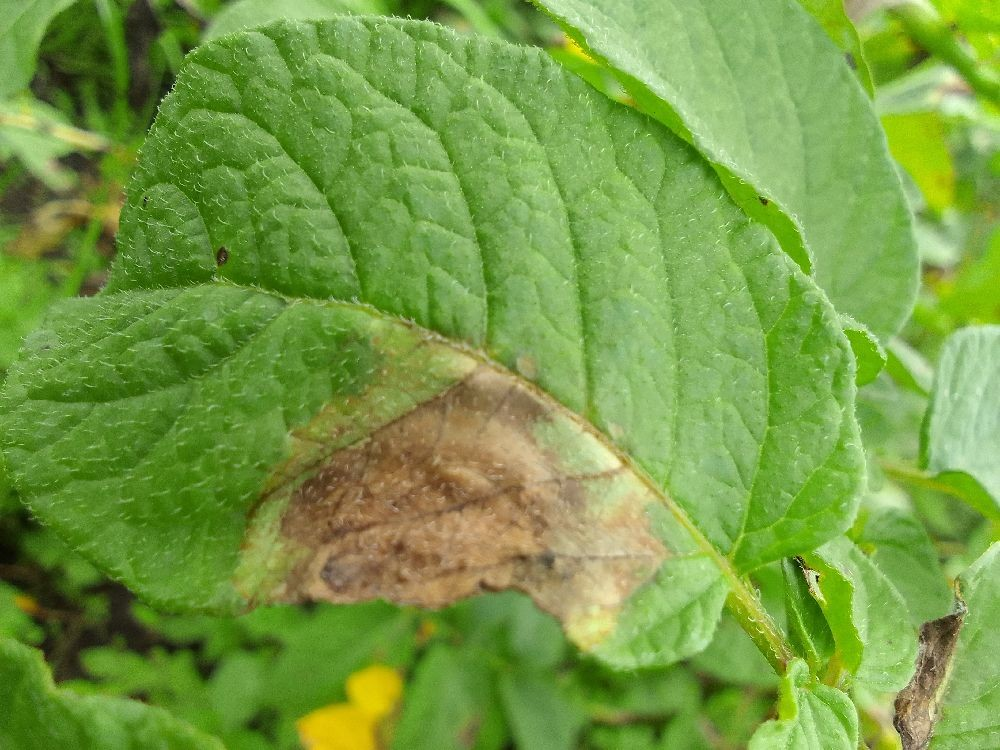late_blight: (244, 323, 685, 664), (0, 537, 216, 708), (0, 132, 141, 279), (287, 656, 419, 750)
